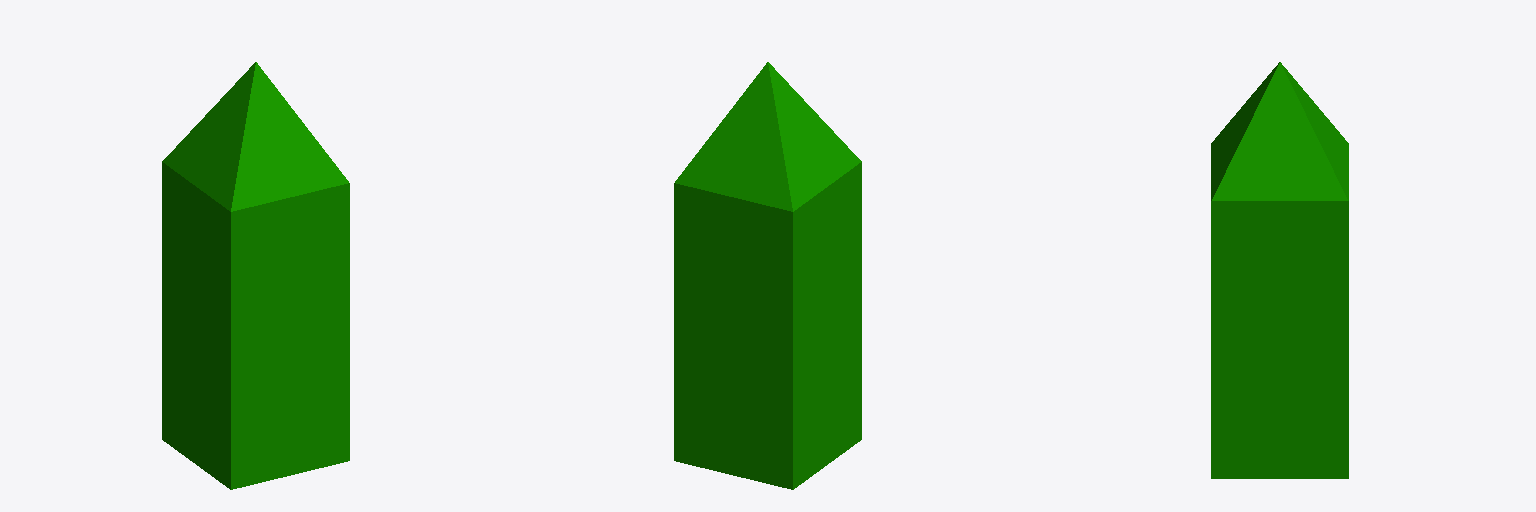
Rendered from arrow_green.obj.
The picture shows the model from 3 angles: view 1: azimuth 30°, elevation 25°; view 2: azimuth 150°, elevation 25°; view 3: azimuth 270°, elevation 25°; orthographic projection.
Parts seen in each view (by area): view 1: Cube; view 2: Cube; view 3: Cube.
Boxes of the visible parts, x1=… form: Cube: x1=162, y1=62, x2=349, y2=489; Cube: x1=674, y1=62, x2=861, y2=489; Cube: x1=1211, y1=62, x2=1348, y2=478.
Size of the model in its own units: 0.3066 by 0.9575 by 0.3066.